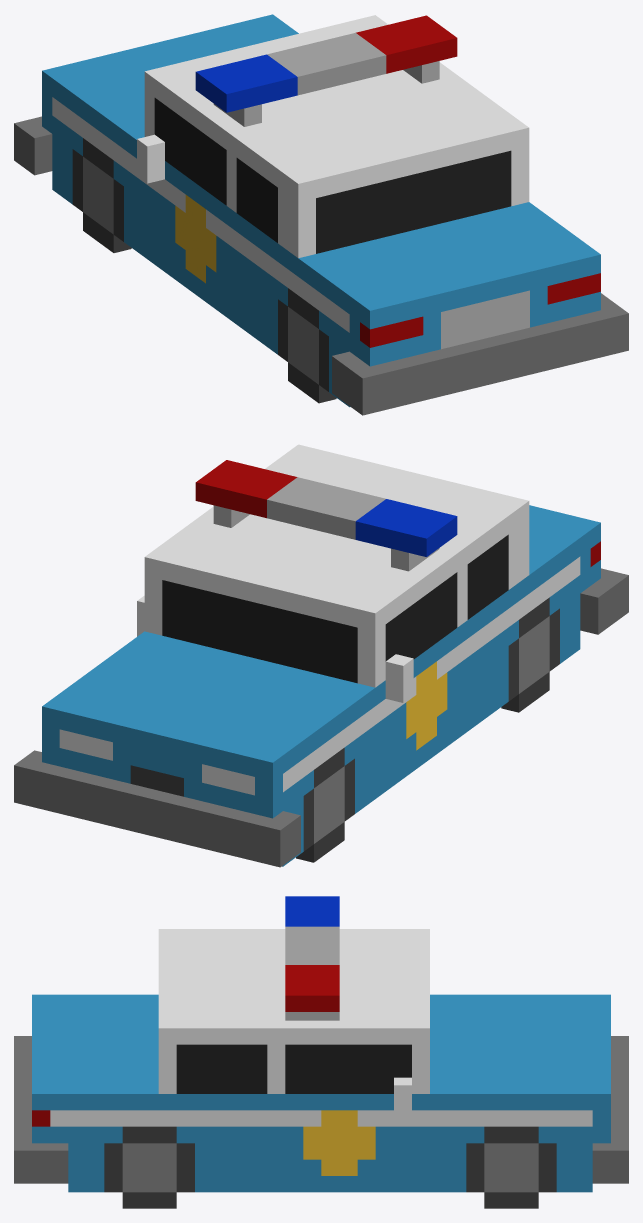
File: cars-0.obj
The picture shows the model from 3 angles, top to bottom: view 1: azimuth 30°, elevation 25°; view 2: azimuth 150°, elevation 25°; view 3: azimuth 270°, elevation 25°; orthographic projection. The views are drawn at different scales.
Size of the model in its own units: 1.5 by 1.3 by 3.4.
